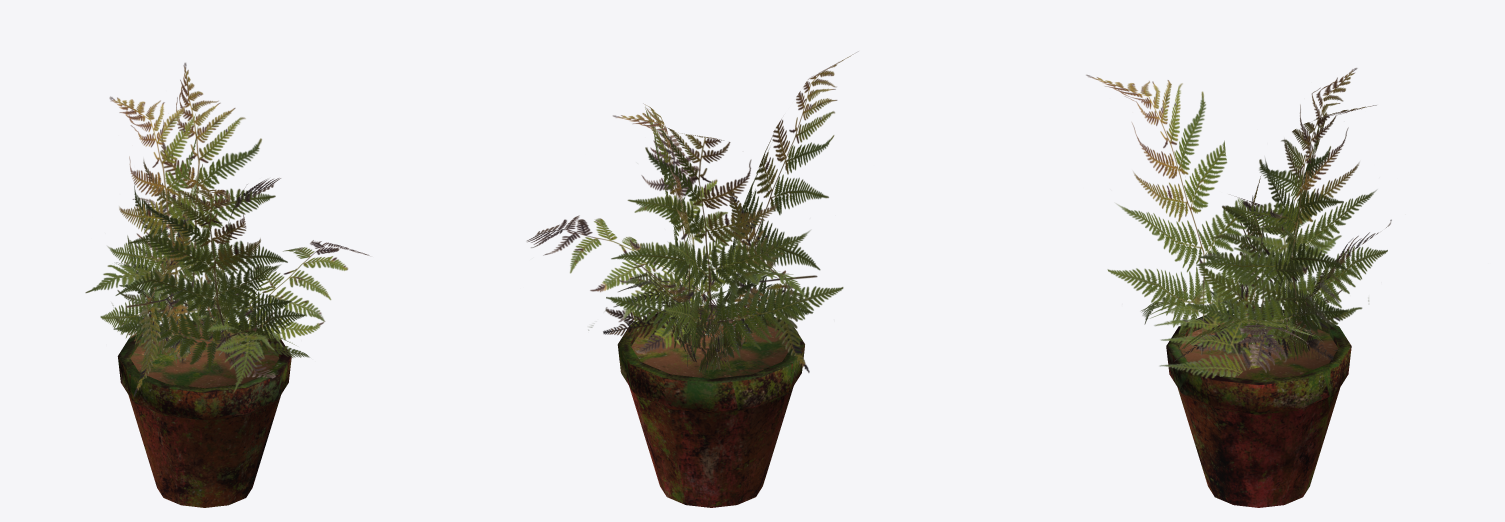
File: fern.glb
3 views of the same model, side by side, from view 1: azimuth 30°, elevation 25°; view 2: azimuth 150°, elevation 25°; view 3: azimuth 270°, elevation 25° (orthographic). The views are drawn at different scales.
Visible parts, largest first — view 1: flowerPot, plant3.005, plant3.001, plant3, plant5, plant6, plant1, plant2.001, plant5.001, plant2, plant2.002, plant2.003; view 2: flowerPot, plant3.003, plant3.002, plant5.001, plant5, plant1.001, plant6.001, plant3.001, plant3.004, plant2, plant2.002, plant2.001; view 3: flowerPot, plant3.004, plant3.002, plant5.003, plant3, plant2.001, plant2.002, plant5, plant1, plant2, plant5.002.
Boxes of the visible parts, x1,y1,x2,y2 form: flowerPot: [117, 319, 291, 507]; plant3.005: [113, 189, 305, 377]; plant3.001: [127, 62, 291, 336]; plant3: [100, 96, 218, 353]; plant5: [201, 240, 369, 378]; plant6: [126, 203, 194, 396]; plant1: [111, 197, 226, 354]; plant2.001: [199, 315, 283, 393]; plant5.001: [214, 178, 280, 373]; plant2: [86, 264, 190, 362]; plant2.002: [85, 262, 190, 362]; plant2.003: [188, 312, 309, 357]; flowerPot: [617, 304, 804, 507]; plant3.003: [606, 128, 843, 369]; plant3.002: [727, 51, 858, 331]; plant5.001: [605, 131, 741, 342]; plant5: [527, 215, 725, 353]; plant1.001: [588, 261, 730, 370]; plant6.001: [721, 182, 817, 372]; plant3.001: [613, 103, 699, 355]; plant3.004: [645, 108, 699, 366]; plant2: [699, 270, 807, 373]; plant2.002: [699, 270, 807, 373]; plant2.001: [668, 253, 777, 340]; flowerPot: [1166, 307, 1351, 507]; plant3.004: [1188, 105, 1387, 354]; plant3.002: [1086, 74, 1254, 355]; plant5.003: [1198, 198, 1318, 360]; plant3: [1243, 68, 1357, 337]; plant2.001: [1141, 272, 1282, 378]; plant2.002: [1210, 207, 1361, 337]; plant5: [1182, 318, 1315, 372]; plant1: [1287, 219, 1391, 360]; plant2: [1211, 212, 1361, 334]; plant5.002: [1174, 318, 1326, 361].
Size of the model in its own units: 1 by 0.9882 by 1.05.
1 material, 1 textured.
